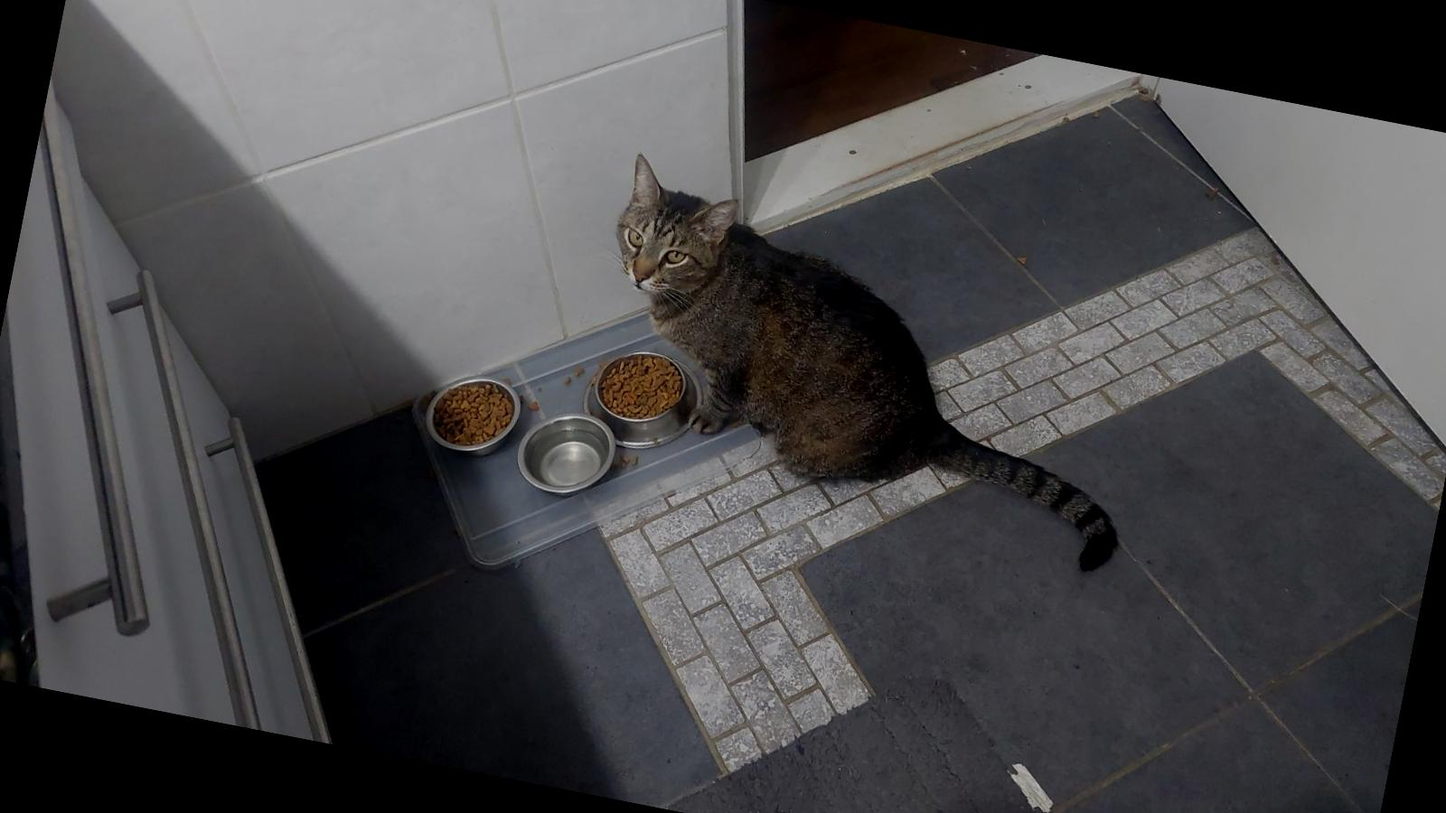macka: (568, 148, 1176, 580)
